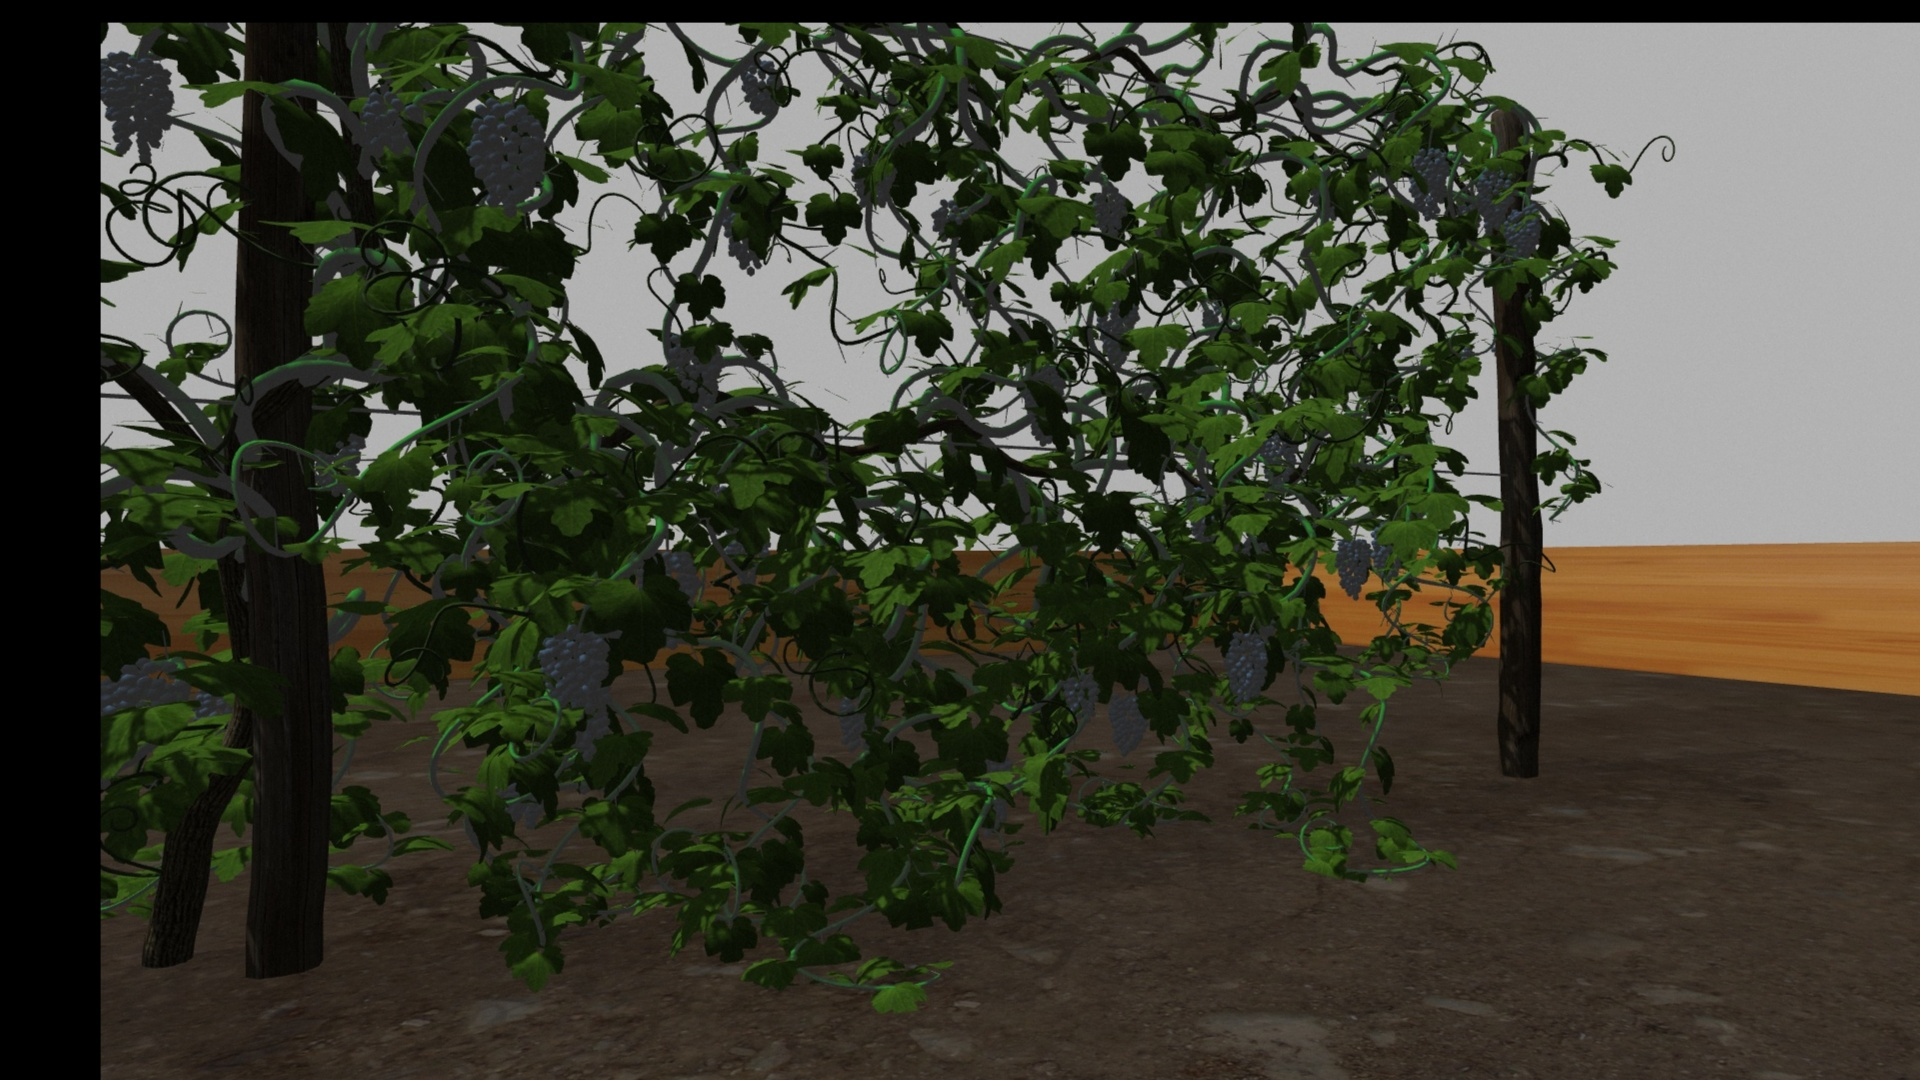grape: (465, 99, 549, 218), (105, 50, 174, 165), (535, 630, 611, 703), (105, 659, 193, 711), (356, 87, 419, 157), (667, 334, 724, 404), (1225, 630, 1269, 712), (1408, 146, 1451, 222), (1097, 297, 1139, 369), (1109, 694, 1153, 757), (1476, 167, 1515, 229), (835, 698, 878, 752), (1335, 537, 1371, 600), (1503, 206, 1542, 261), (742, 65, 785, 115), (1261, 429, 1298, 484), (1091, 182, 1127, 236), (1062, 670, 1100, 720), (1371, 534, 1404, 582), (928, 196, 967, 229)
